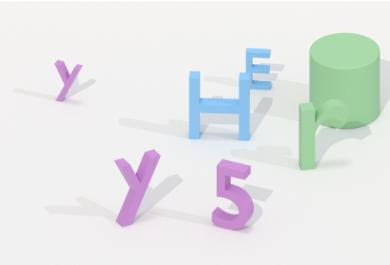0-KhoiTru: (307, 28, 387, 133)
5: (208, 155, 257, 234)
E: (243, 43, 275, 94)
H: (186, 68, 253, 143)
r: (298, 95, 350, 172)
y: (111, 145, 162, 230), (49, 56, 87, 105)
